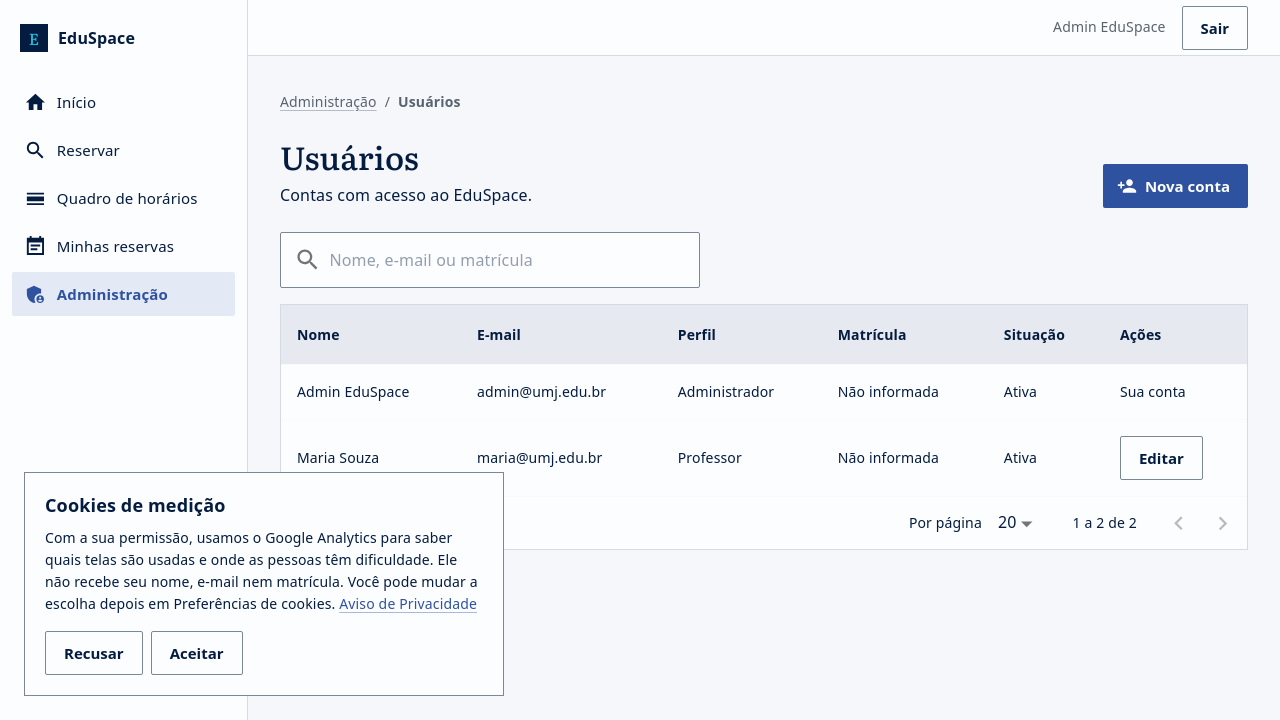
admin users › changes the role of an existing account
Click the button with aria-label "Editar Maria Souza" at (1161, 458), box [1120,436,1203,480]
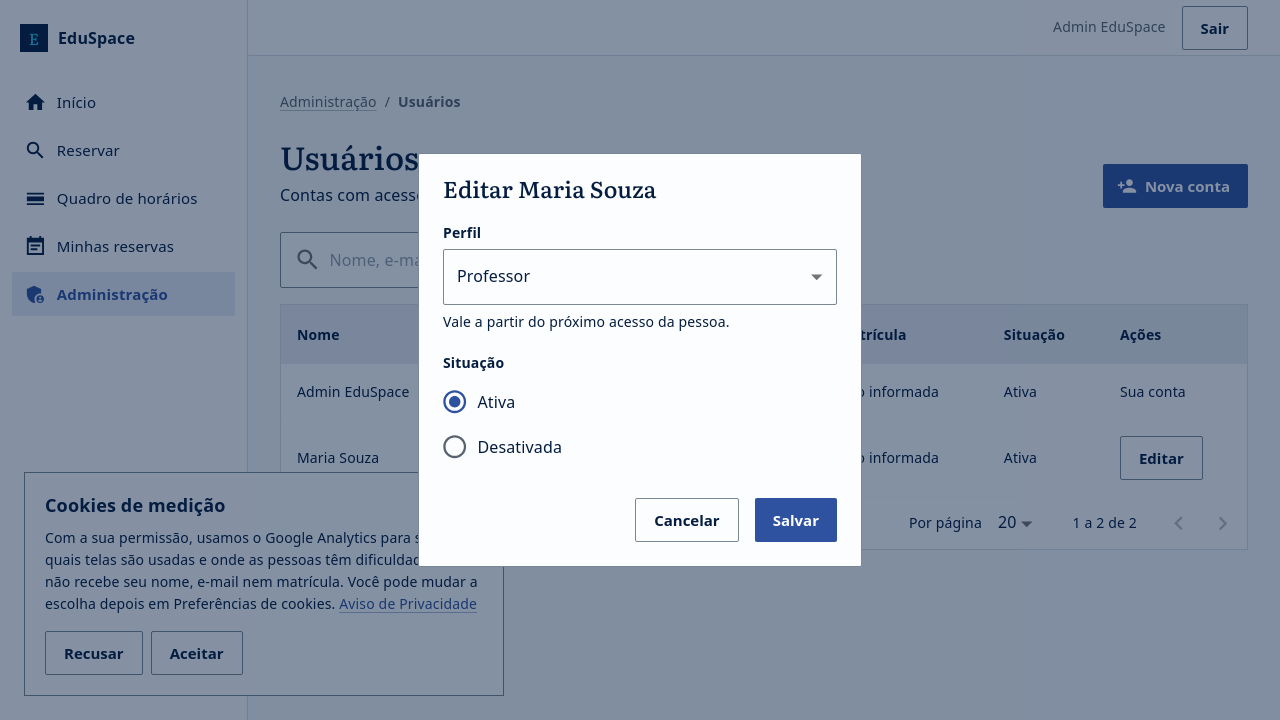
Click the dropdown named "Perfil" at (494, 276), box [457,265,530,287]
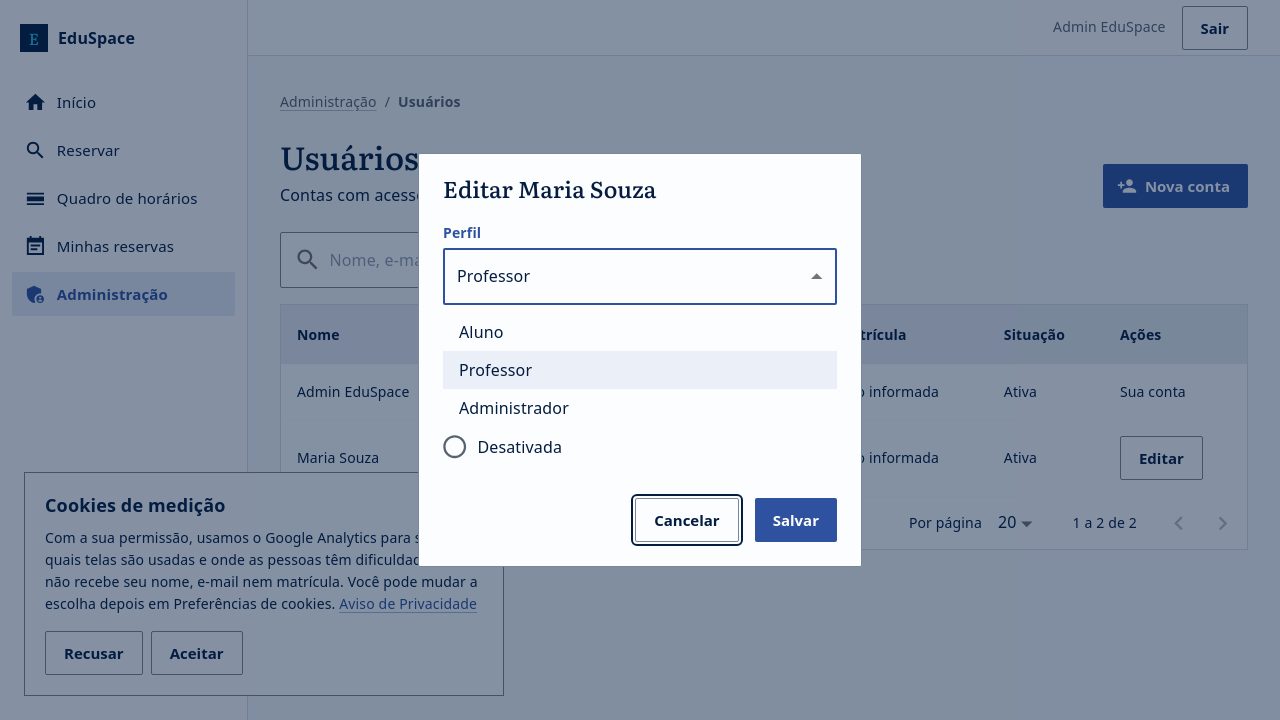
Click the option "Administrador" at (514, 408), box [459,397,569,419]
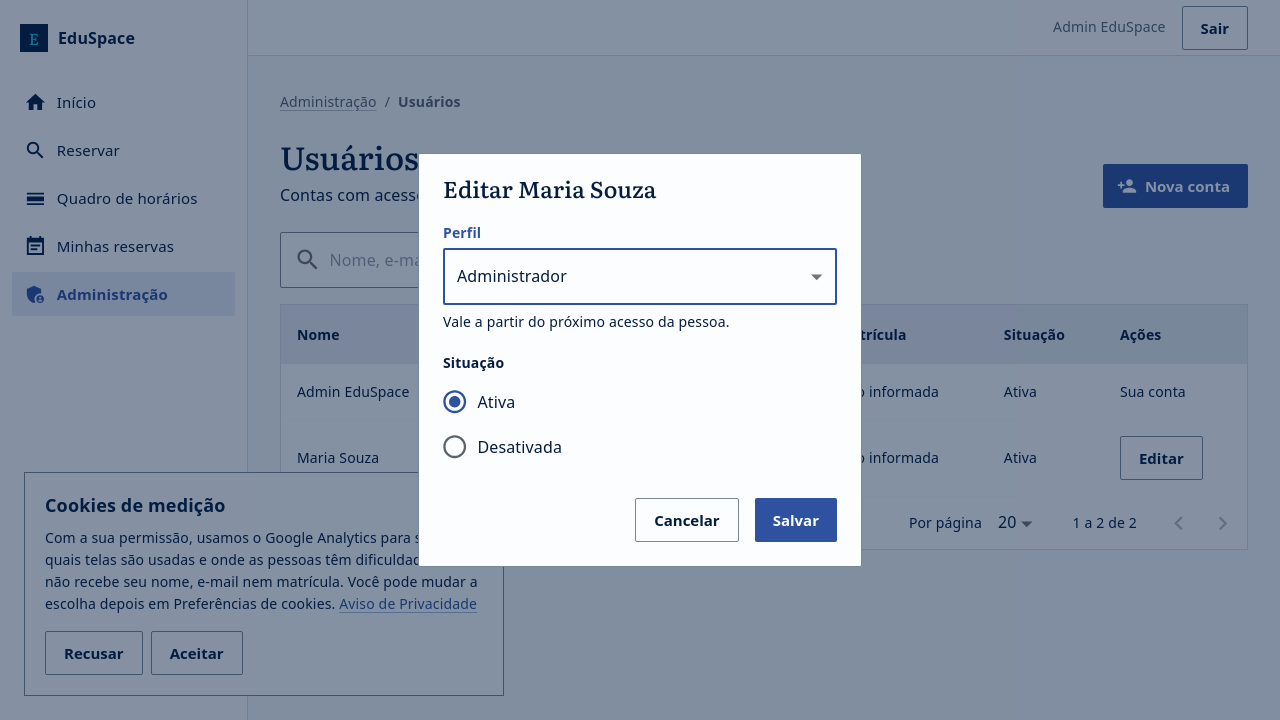
Click the button "Salvar" at (796, 520), box [755,498,837,542]
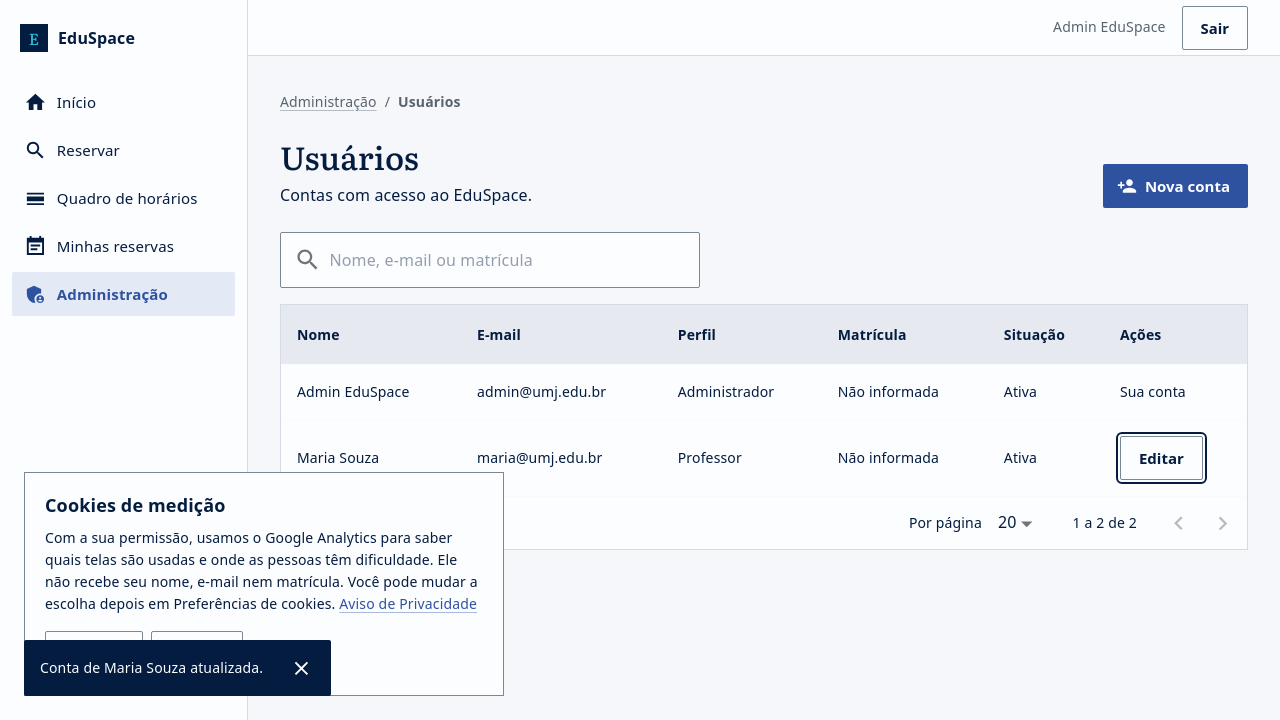
Result: the dialog is gone
Result: the message reads "Conta de Maria Souza atualizada." at [40,658,263,677]
